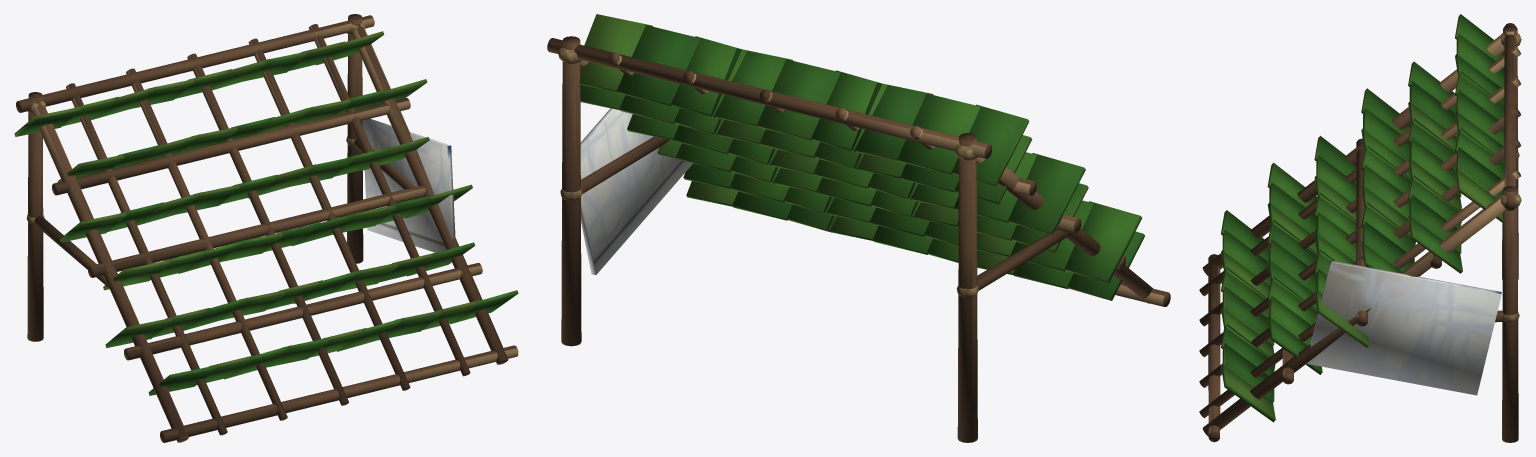
Rendered from shelter_leanto.glb.
3 views of the same model, side by side, from view 1: azimuth 30°, elevation 25°; view 2: azimuth 150°, elevation 25°; view 3: azimuth 270°, elevation 25° (orthographic). The views are drawn at different scales.
Visible parts, largest first — view 1: Shelter_Leanto; view 2: Shelter_Leanto; view 3: Shelter_Leanto.
Boxes of the visible parts, x1,y1,x2,y2 form: Shelter_Leanto: (14, 14, 518, 442); Shelter_Leanto: (547, 14, 1170, 442); Shelter_Leanto: (1199, 14, 1521, 442).
Size of what is drawn, in the model's own units: 2.88 by 1.84 by 2.12.
4 materials, 4 textured.
